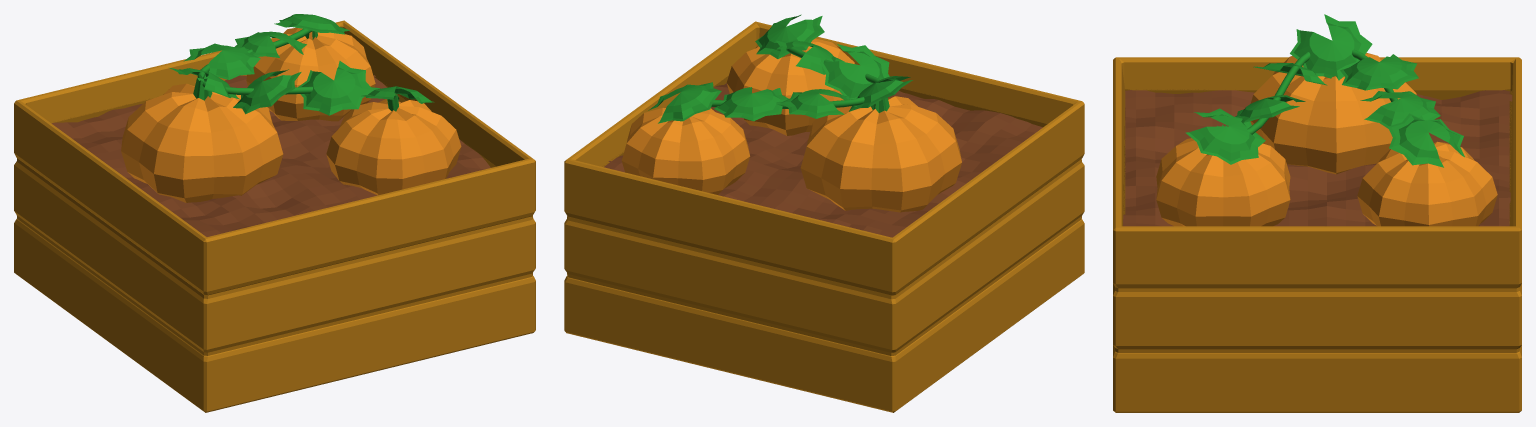
Rendered from Pumpkin1x1.glb.
3 renders of one model, left to right at view 1: azimuth 30°, elevation 25°; view 2: azimuth 150°, elevation 25°; view 3: azimuth 270°, elevation 25°, orthographic. The views are drawn at different scales.
Visible parts, largest first — view 1: 1x1, Sphere.048, 1x1 Soil, Sphere.047, BézierCurve.008, Sphere.049; view 2: 1x1, Sphere.048, 1x1 Soil, BézierCurve.008, Sphere.049, Sphere.047; view 3: 1x1, 1x1 Soil, BézierCurve.008, Sphere.048, Sphere.047, Sphere.049.
Boxes of the visible parts, left/top/right/bottom form: 1x1: left=14, top=20, right=535, bottom=412; Sphere.048: left=121, top=74, right=283, bottom=202; 1x1 Soil: left=51, top=75, right=490, bottom=236; Sphere.047: left=326, top=93, right=461, bottom=195; BézierCurve.008: left=169, top=14, right=434, bottom=115; Sphere.049: left=246, top=27, right=375, bottom=121; 1x1: left=564, top=21, right=1084, bottom=412; Sphere.048: left=800, top=96, right=961, bottom=212; 1x1 Soil: left=604, top=83, right=1042, bottom=237; BézierCurve.008: left=648, top=14, right=912, bottom=123; Sphere.049: left=621, top=106, right=750, bottom=194; Sphere.047: left=726, top=38, right=854, bottom=135; 1x1: left=1113, top=57, right=1521, bottom=412; 1x1 Soil: left=1123, top=90, right=1512, bottom=226; BézierCurve.008: left=1185, top=14, right=1464, bottom=167; Sphere.048: left=1250, top=53, right=1416, bottom=174; Sphere.047: left=1156, top=124, right=1290, bottom=226; Sphere.049: left=1357, top=141, right=1497, bottom=226.
Bounding box in the file's own units: 1 × 0.7173 × 1.
